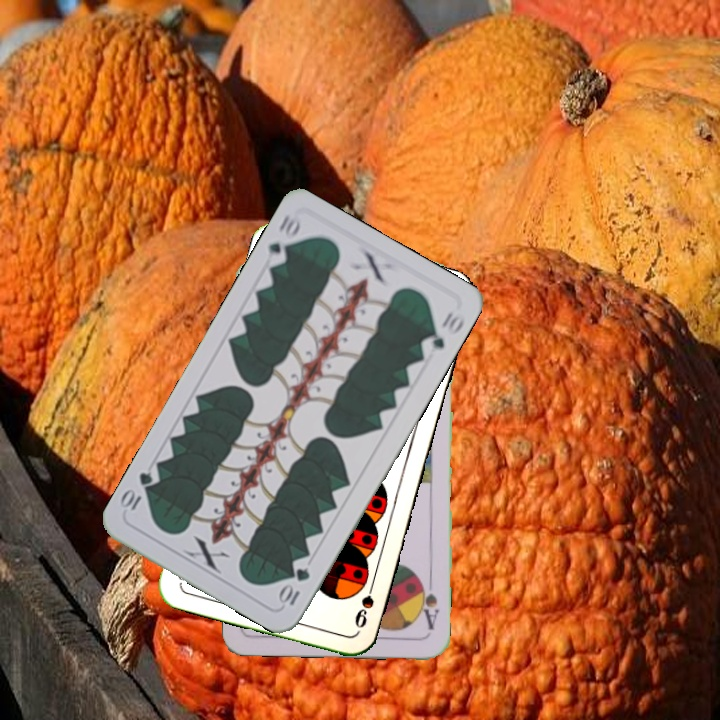G10: (261, 210, 304, 270), (275, 563, 313, 609)
S9: (350, 573, 378, 631)
SA: (415, 575, 442, 633)
